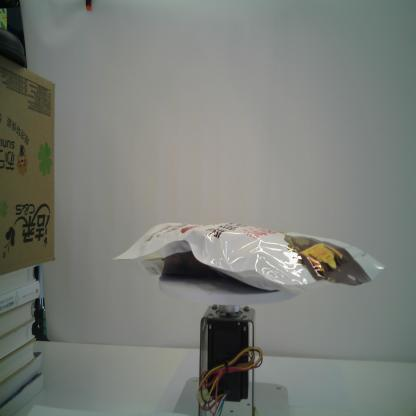Dried Food: (110, 217, 388, 296)
